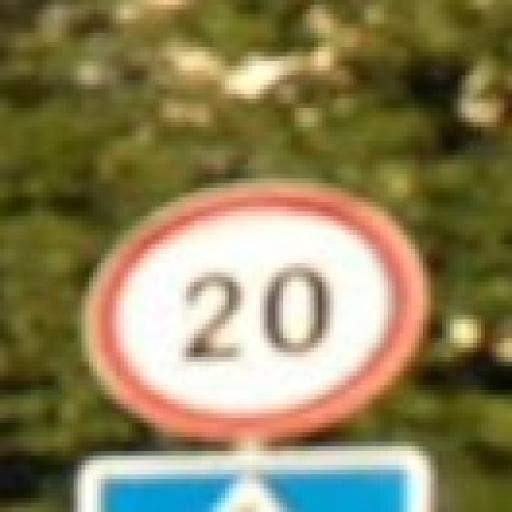traffic_sign: (79, 180, 432, 443)
